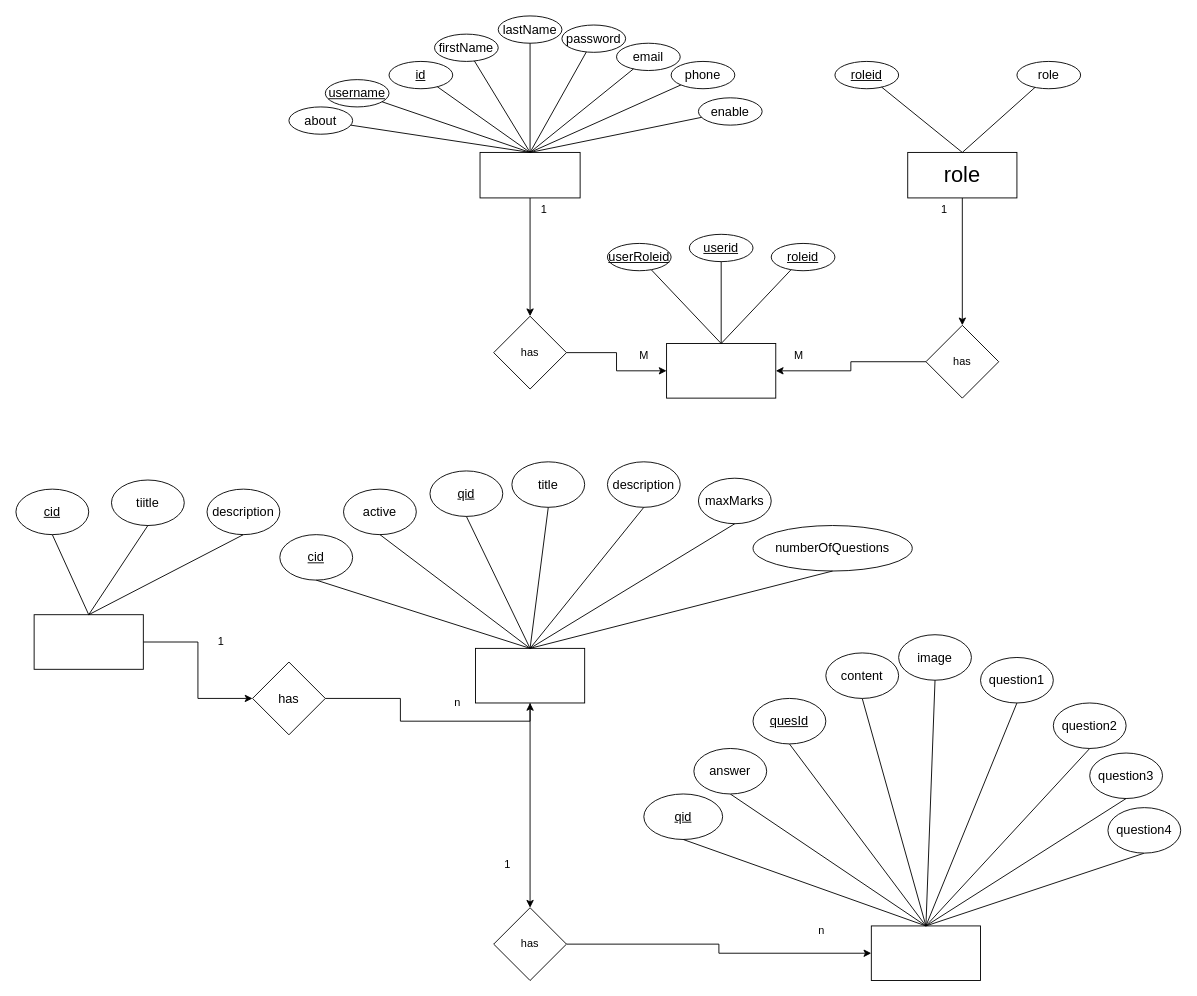
Some shapes in this 1197 by 996 pixel diagram are drawn without their labels. The centre of each missing label's shape, as x and y in pixels:
Category: the point at 88,641
Question: the point at 925,953
Quizz: the point at 530,675
user: the point at 529,175
User_Role: the point at 721,370
